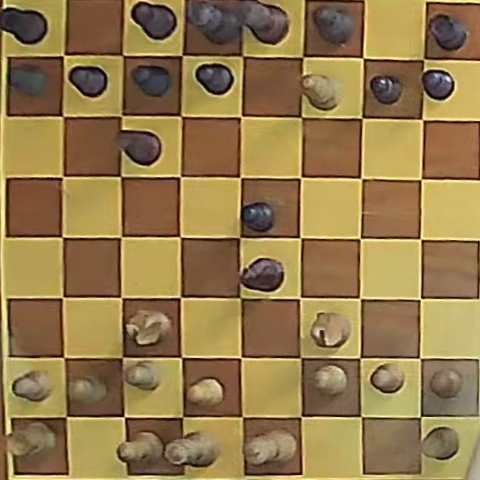black-bishop: (131, 2, 177, 41), (313, 5, 353, 46)
black-king: (233, 0, 289, 44)
black-knight: (116, 131, 161, 165), (240, 257, 283, 292)
black-pawn: (131, 65, 172, 97), (68, 65, 107, 98), (9, 63, 48, 96), (195, 64, 232, 95), (421, 69, 454, 100), (241, 202, 274, 231), (370, 75, 402, 104)
black-queen: (187, 2, 242, 45)
black-rook: (0, 7, 48, 45), (428, 14, 469, 52)
white-bishop: (118, 431, 164, 464), (301, 74, 340, 110)
white-king: (245, 429, 297, 465)
white-knight: (126, 310, 170, 345), (310, 312, 350, 347)
white-pawn: (12, 369, 54, 401), (70, 375, 108, 404), (313, 364, 348, 395), (124, 360, 159, 390), (186, 378, 223, 406), (429, 368, 462, 398), (371, 364, 404, 393)
white-queen: (162, 431, 219, 466)
white-rook: (7, 421, 57, 457), (422, 427, 459, 460)
